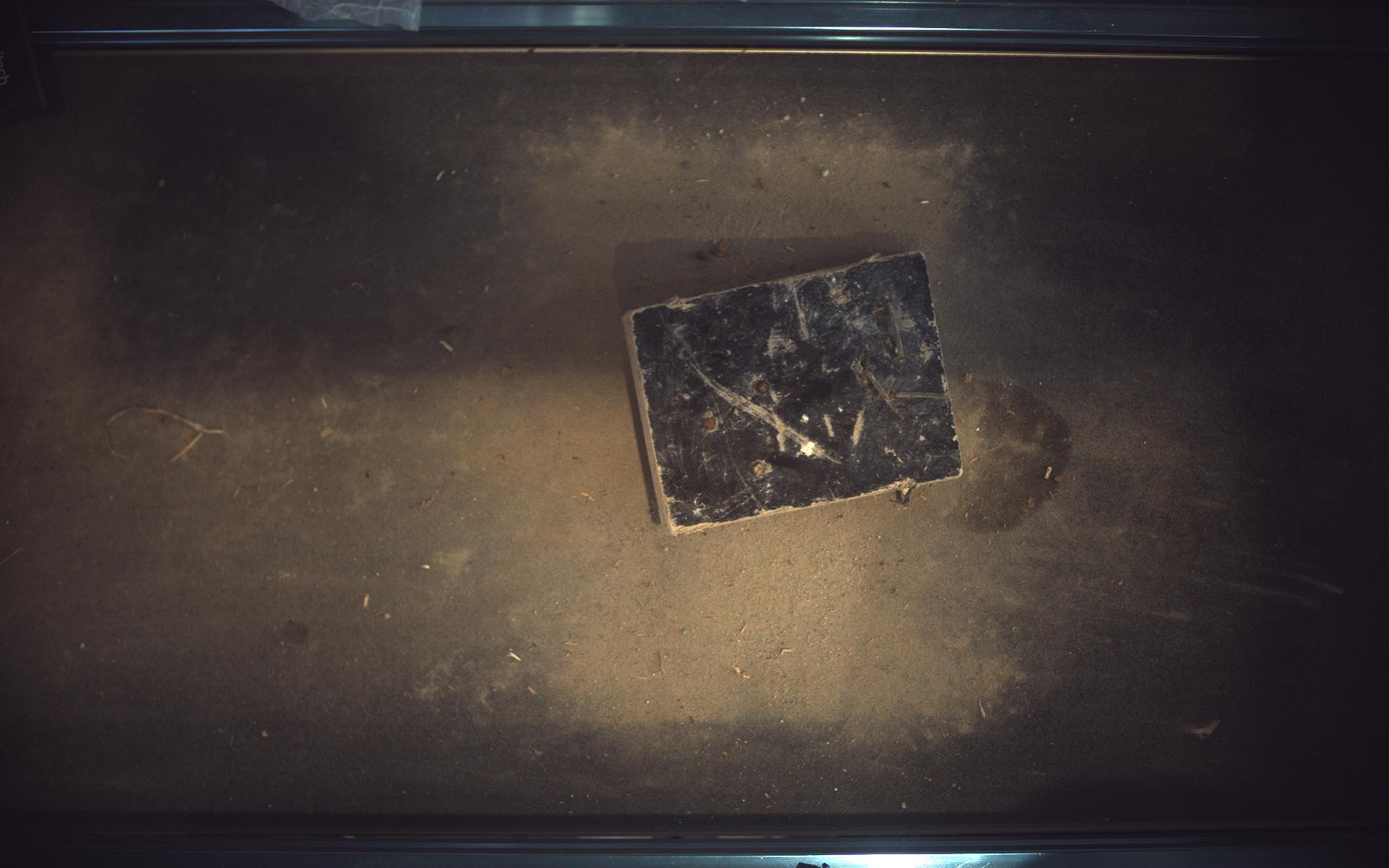wood: (625, 253, 964, 534)
